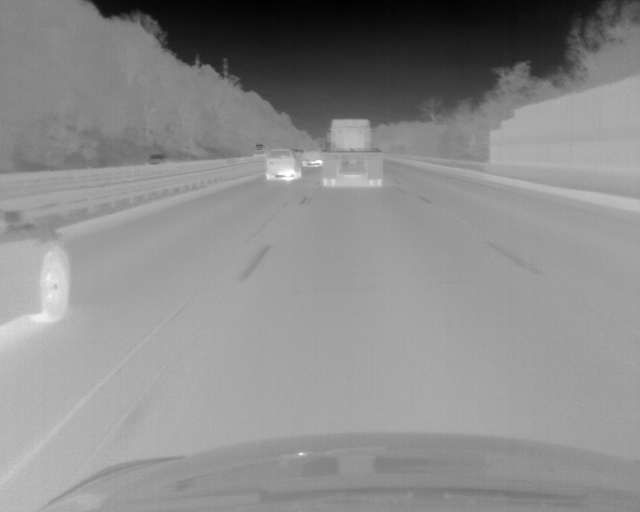car: (1, 203, 73, 330), (322, 119, 382, 186), (266, 149, 302, 180), (301, 146, 320, 166), (146, 152, 164, 165), (252, 144, 264, 156)
